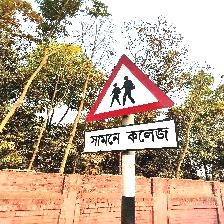College-in-front: (76, 43, 188, 168)
